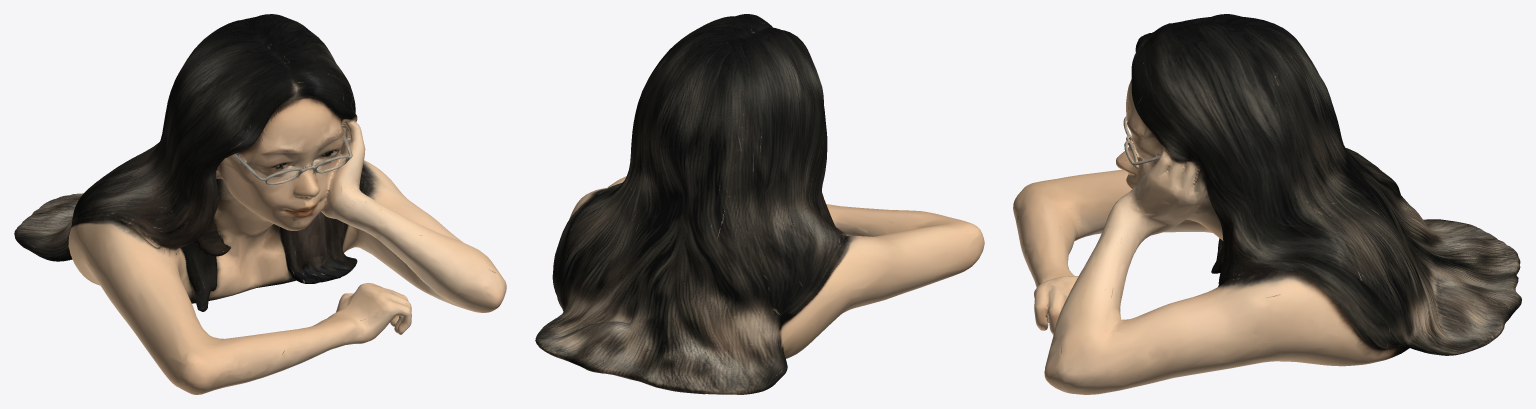
The picture shows the model from 3 angles, left to right: view 1: azimuth 30°, elevation 25°; view 2: azimuth 150°, elevation 25°; view 3: azimuth 270°, elevation 25°; orthographic projection. The views are drawn at different scales.
Visible parts, largest first — view 1: Mesh_0; view 2: Mesh_0; view 3: Mesh_0.
Part boxes in pixels (x1,y1,x2,y2): Mesh_0: (14,14,506,394); Mesh_0: (535,14,984,394); Mesh_0: (1013,14,1521,394).
Size of the model in its own units: 1.6 by 1.22 by 1.9.
1 material, 1 textured.
